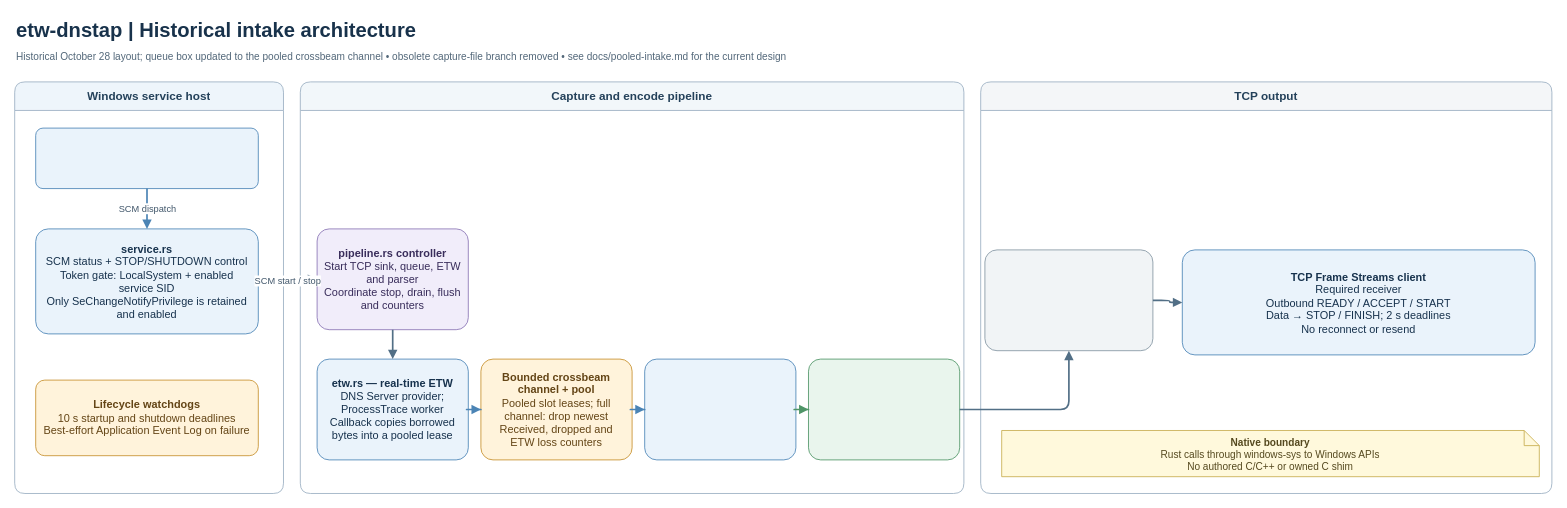
This 1567x508 diagram has some shape labels left out. Here are the shapes that lost their labels. From the top down, the centre of each, then its label:
point 146,158: main.rs + lib.rs Parse configuration; enter SCM dispatcher Service-only runtime
point 1068,300: Frame Streams encoding Content type + data frames
point 720,409: Parser worker Validate provider schema TDH reads PacketData + event metadata
point 884,409: dnstap encoder Prost wire encoding Preserve DNS bytes; reject invalid events
